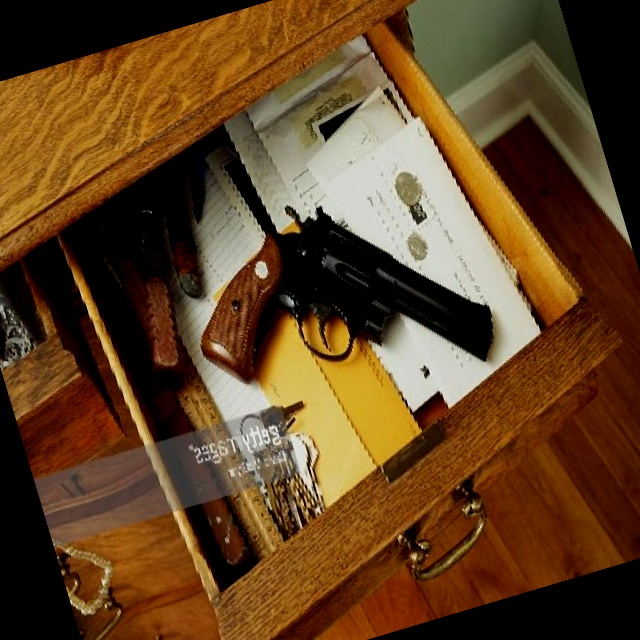gun: (167, 157, 507, 437)
